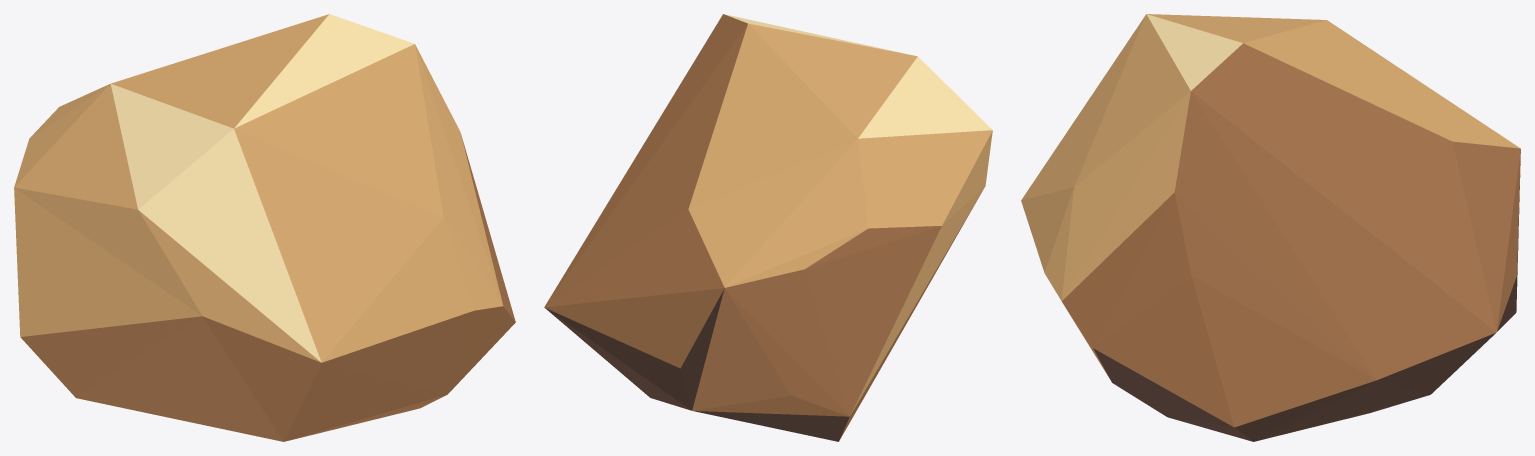
The model's file is earth_boulder.glb.
3 renders of one model, left to right at view 1: azimuth 30°, elevation 25°; view 2: azimuth 150°, elevation 25°; view 3: azimuth 270°, elevation 25°, orthographic. The views are drawn at different scales.
Visible parts, largest first — view 1: earth_boulder; view 2: earth_boulder; view 3: earth_boulder.
Part boxes in pixels (box(x1,y1,x2,y2)): earth_boulder: box(14, 14, 515, 441); earth_boulder: box(544, 14, 992, 441); earth_boulder: box(1021, 14, 1520, 441).
Size of the model in its own units: 1.48 by 1.31 by 1.61.
